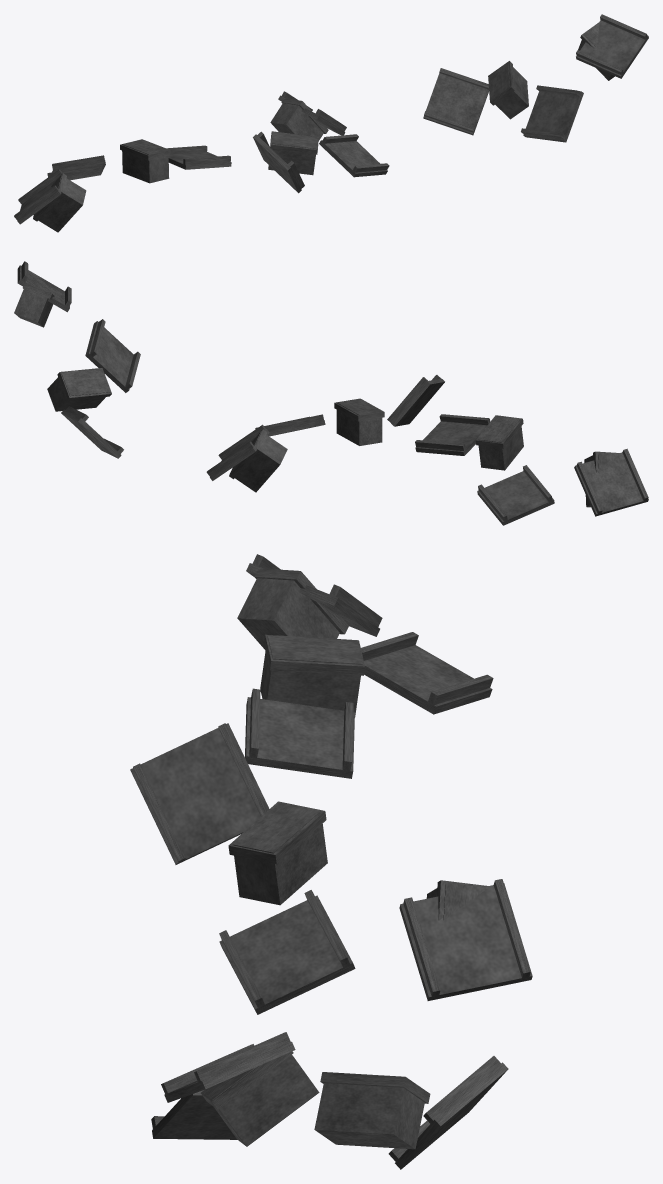
The model's file is collapsed_bridge.obj.
3 renders of one model, top to bottom at view 1: azimuth 30°, elevation 25°; view 2: azimuth 150°, elevation 25°; view 3: azimuth 270°, elevation 25°, orthographic. The views are drawn at different scales.
Parts seen in each view (by area): view 1: collapsed_bridge; view 2: collapsed_bridge; view 3: collapsed_bridge.
Part boxes in pixels (x1,y1,x2,y2): collapsed_bridge: [14, 14, 648, 232]; collapsed_bridge: [14, 261, 648, 525]; collapsed_bridge: [130, 554, 532, 1169].
Size of the model in its own units: 466 by 85.83 by 133.
Materials: 1 (1 with a texture image).
